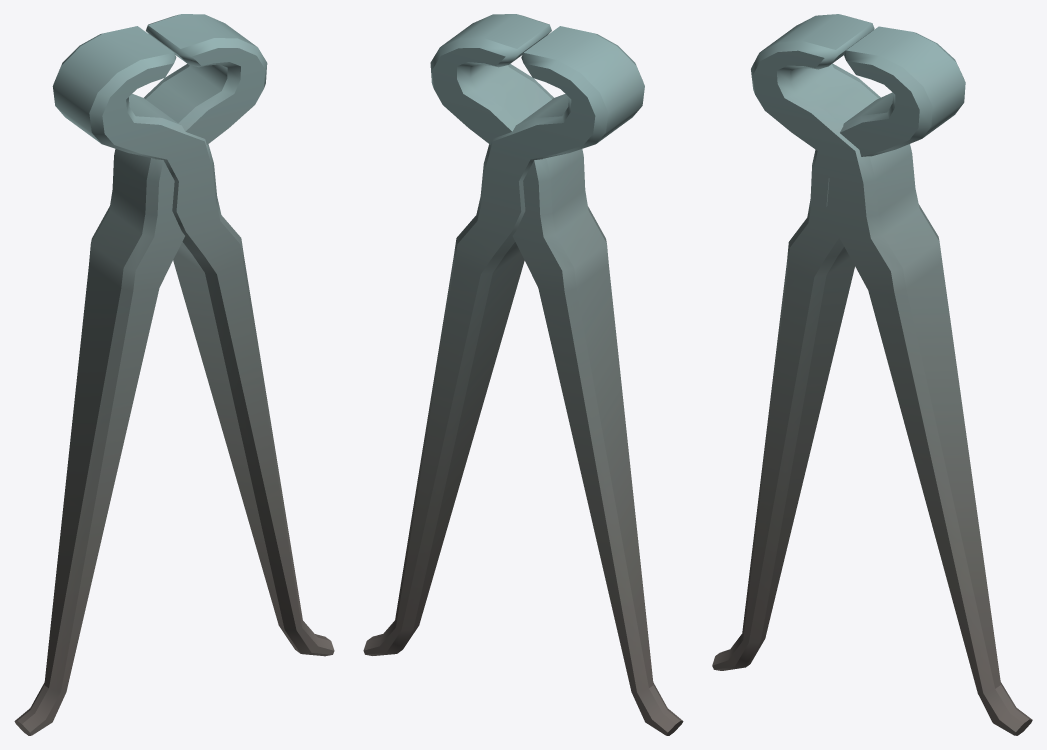
Rendered from Forceps.fbx.
3 renders of one model, left to right at view 1: azimuth 30°, elevation 25°; view 2: azimuth 150°, elevation 25°; view 3: azimuth 330°, elevation 25°, orthographic.
Parts seen in each view (by area): view 1: Forceps_02, Forceps_01; view 2: Forceps_02, Forceps_01; view 3: Forceps_01, Forceps_02.
Part boxes in pixels (x1,y1,x2,y2): Forceps_02: (14, 14, 267, 735); Forceps_01: (52, 26, 334, 656); Forceps_02: (430, 14, 683, 735); Forceps_01: (363, 26, 644, 655); Forceps_01: (751, 14, 1032, 735); Forceps_02: (712, 26, 965, 670).
Bounding box in the file's own units: 49.95 × 103 × 13.36.
